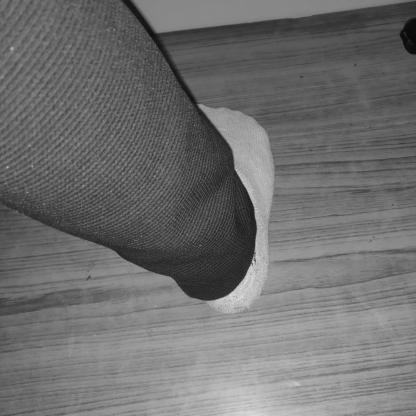ankle: (250, 255, 255, 262)
heel: (226, 308, 232, 313)
pinky: (257, 130, 262, 135)
right_foot: (193, 105, 276, 315)
toe: (198, 107, 205, 111)
